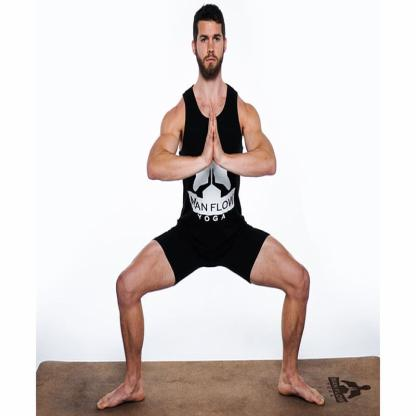godness: (92, 0, 326, 413)
